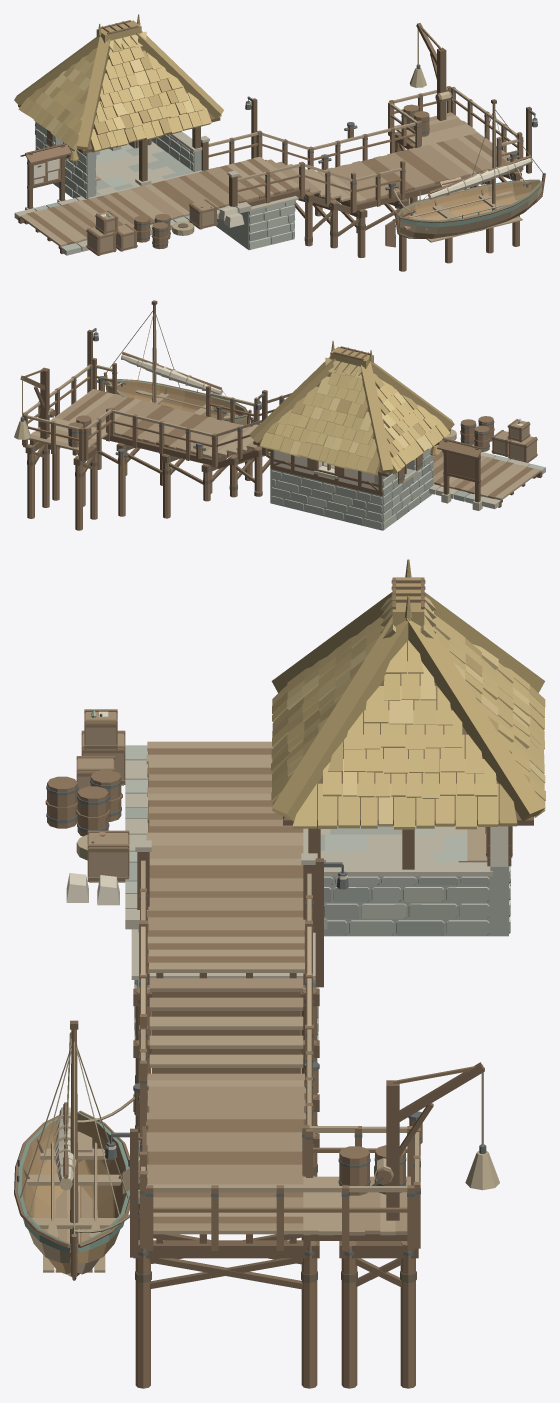
Rendered from haven.glb.
3 views of the same model, one above another, from view 1: azimuth 30°, elevation 25°; view 2: azimuth 150°, elevation 25°; view 3: azimuth 270°, elevation 25° (orthographic). The views are drawn at different scales.
Parts seen in each view (by area): view 1: Haven_RoofThatch, Haven_DeckPier, Haven_PierRail, Haven_DeckLanding, Haven_ServiceBoat_Hull, Haven_PierFrame, Haven_RoofRidge, Haven_Props, Haven_PierStone, Haven_FloorShelter, Haven_Mooring, Haven_ServiceNotice_Board (+6 smaller); view 2: Haven_RoofThatch, Haven_PierFrame, Haven_DeckLanding, Haven_PierRail, Haven_ShellNorth, Haven_RoofRidge, Haven_Props, Haven_ShellWest, Haven_DeckPier, Haven_Mooring, Haven_ServiceBoat_Hull, Haven_ServiceNotice_Board (+5 smaller); view 3: Haven_RoofThatch, Haven_DeckPier, Haven_DeckLanding, Haven_PierFrame, Haven_RoofRidge, Haven_PierRail, Haven_ShellEast, Haven_Props, Haven_StairFlight, Haven_Mooring, Haven_ServiceBoat_Hull, Haven_FloorShelter (+6 smaller).
Boxes of the visible parts, box(x1,y1,x2,y2) form: Haven_RoofThatch: box(18, 37, 221, 152); Haven_DeckPier: box(20, 157, 298, 246); Haven_PierRail: box(200, 86, 523, 212); Haven_DeckLanding: box(317, 112, 510, 203); Haven_ServiceBoat_Hull: box(394, 173, 545, 238); Haven_PierFrame: box(18, 131, 521, 271); Haven_RoofRidge: box(14, 14, 223, 150); Haven_Props: box(86, 104, 429, 255); Haven_PierStone: box(14, 196, 298, 255); Haven_FloorShelter: box(72, 141, 202, 199); Haven_Mooring: box(245, 23, 537, 211); Haven_ServiceNotice_Board: box(20, 143, 78, 209); Haven_RoofThatch: box(260, 363, 450, 475); Haven_PierFrame: box(25, 434, 542, 530); Haven_DeckLanding: box(28, 389, 250, 458); Haven_PierRail: box(21, 358, 291, 467); Haven_ShellNorth: box(270, 450, 384, 530); Haven_RoofRidge: box(249, 340, 454, 473); Haven_Props: box(68, 415, 537, 462); Haven_ShellWest: box(374, 447, 433, 530); Haven_DeckPier: box(433, 445, 540, 500); Haven_Mooring: box(14, 328, 267, 465); Haven_ServiceBoat_Hull: box(103, 372, 251, 425); Haven_ServiceNotice_Board: box(430, 438, 486, 510); Haven_RoofThatch: box(271, 611, 545, 829); Haven_DeckPier: box(146, 741, 305, 972); Haven_DeckLanding: box(146, 1073, 410, 1235); Haven_PierFrame: box(133, 752, 418, 1388); Haven_RoofRidge: box(271, 559, 544, 821); Haven_PierRail: box(135, 840, 420, 1250); Haven_ShellEast: box(324, 862, 492, 936); Haven_Props: box(45, 709, 406, 1195); Haven_StairFlight: box(149, 978, 303, 1067); Haven_Mooring: box(75, 858, 499, 1257); Haven_ServiceBoat_Hull: box(14, 1110, 129, 1280); Haven_FloorShelter: box(303, 825, 467, 862).
Bounding box in the file's own units: 20.4 × 10.69 × 10.38.
